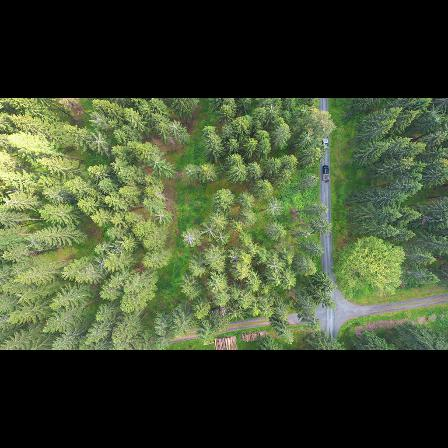Sick: (180, 228, 200, 247), (151, 207, 171, 226), (89, 131, 109, 150), (201, 223, 217, 240), (266, 198, 283, 214), (268, 258, 286, 272), (94, 256, 108, 273), (301, 228, 314, 241), (216, 232, 228, 245)
